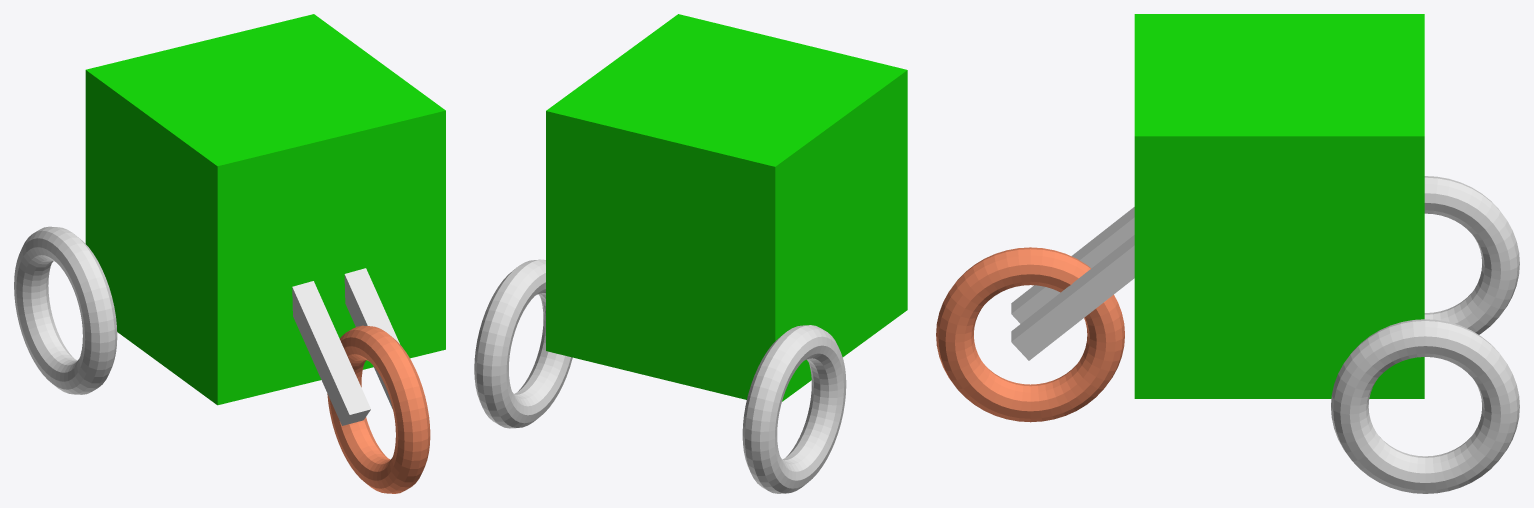
Rendered from Enemy FBX.fbx.
3 views of the same model, side by side, from view 1: azimuth 30°, elevation 25°; view 2: azimuth 150°, elevation 25°; view 3: azimuth 270°, elevation 25° (orthographic). The views are drawn at different scales.
Visible parts, largest first — view 1: Cube, Wheel, Wheel.002, Cube.002, Cube.001; view 2: Cube, Wheel, Wheel.001; view 3: Cube, Wheel.001, Wheel.002, Wheel, Cube.001, Cube.002.
Part boxes in pixels (x1,y1,x2,y2): Cube: (85,14,445,405); Wheel: (14,226,117,394); Wheel.002: (327,325,430,493); Cube.002: (292,281,370,425); Cube.001: (344,268,399,409); Cube: (546,14,907,401); Wheel: (742,325,846,493); Wheel.001: (474,259,572,428); Cube: (1134,14,1424,398); Wheel.001: (1331,319,1519,493); Wheel.002: (936,247,1124,422); Wheel: (1424,176,1519,334); Cube.001: (1011,235,1134,360); Cube.002: (1011,207,1134,323).
Bounding box in the file's own units: 260 × 263 × 403.
